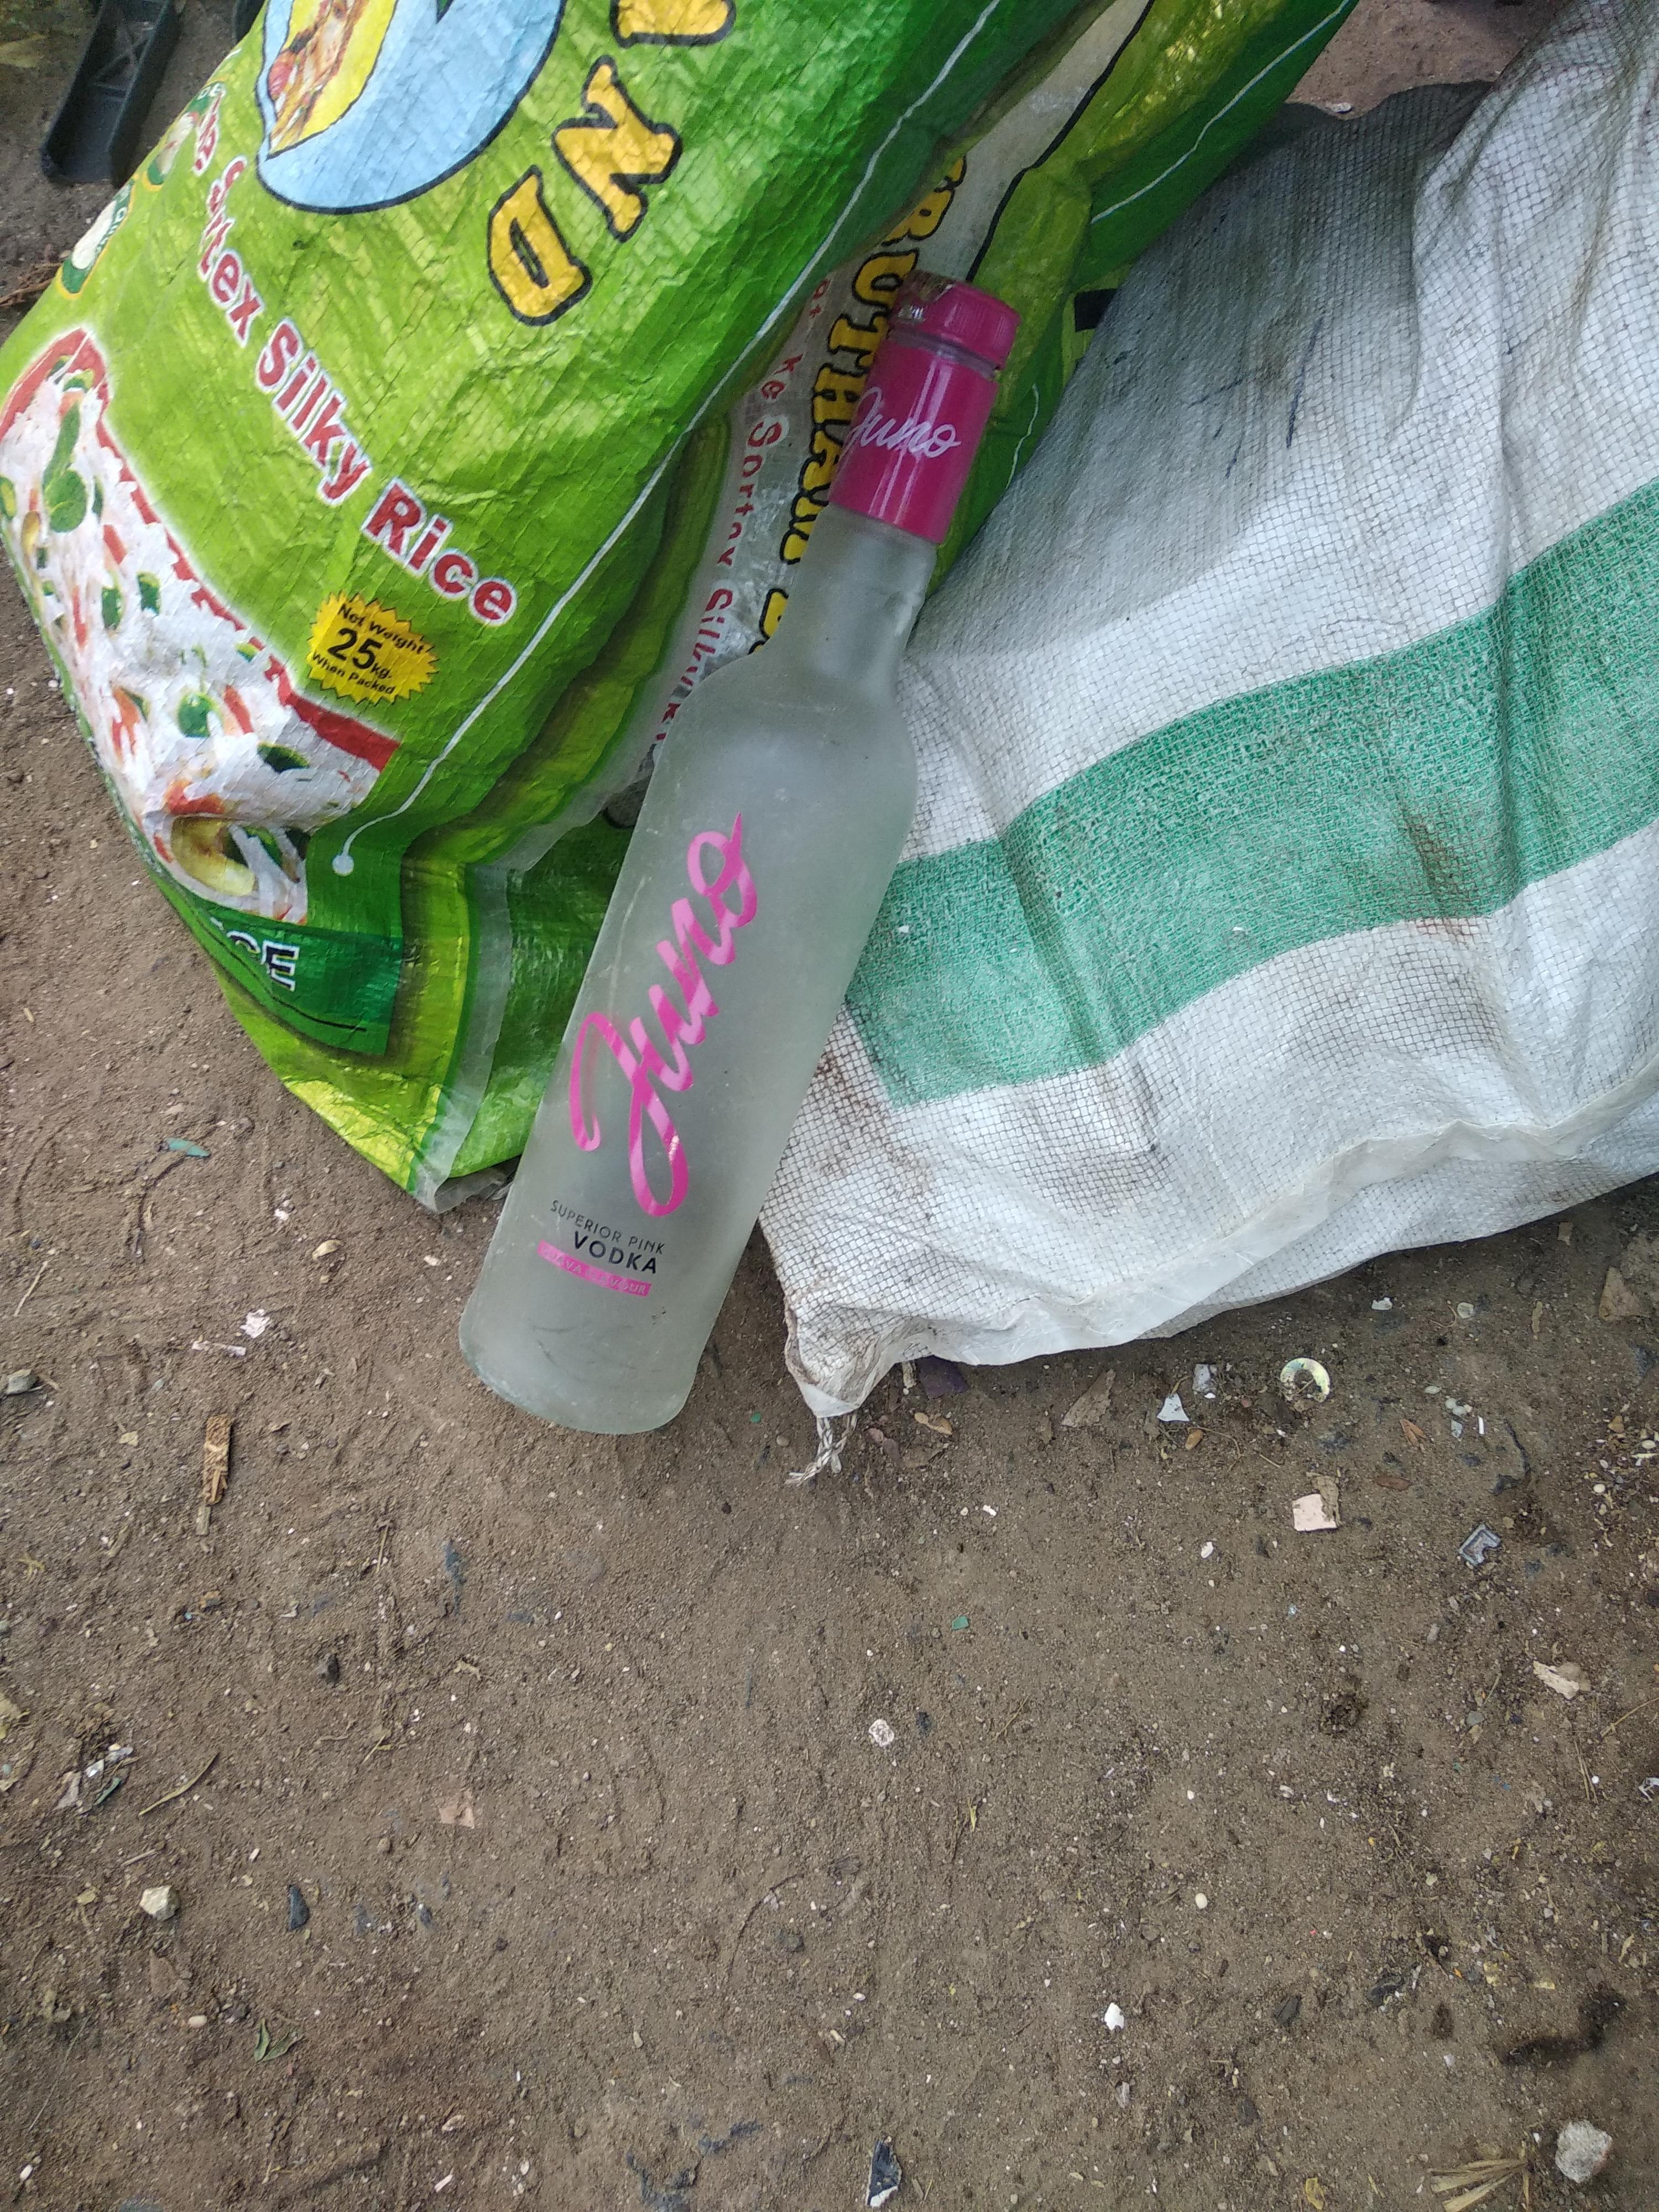organic: (2, 0, 1659, 1501)
